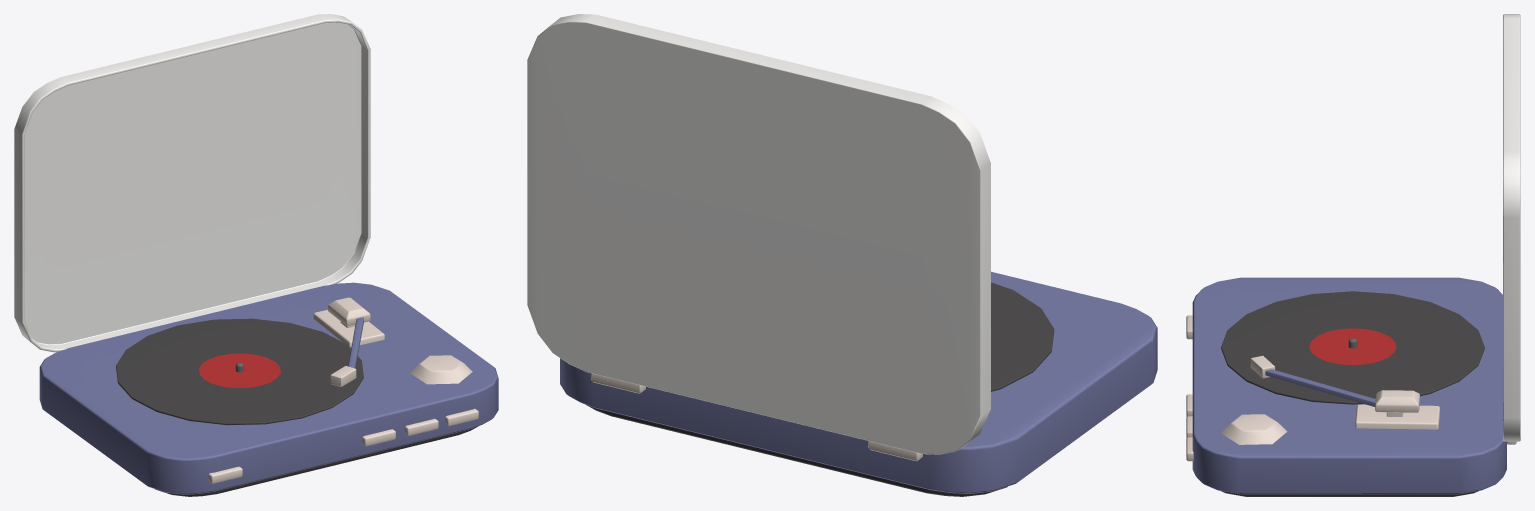
Rendered from Vinyl_Player_1.glb.
3 views of the same model, side by side, from view 1: azimuth 30°, elevation 25°; view 2: azimuth 150°, elevation 25°; view 3: azimuth 270°, elevation 25° (orthographic). The views are drawn at different scales.
Parts seen in each view (by area): view 1: Vinyl_Player_1; view 2: Vinyl_Player_1; view 3: Vinyl_Player_1.
Boxes of the visible parts, x1,y1,x2,y2 form: Vinyl_Player_1: [14, 14, 498, 496]; Vinyl_Player_1: [527, 14, 1157, 496]; Vinyl_Player_1: [1186, 14, 1520, 496].
Bounding box in the file's own units: 0.4157 × 0.3526 × 0.3259.
Materials: 2 (2 with a texture image).
